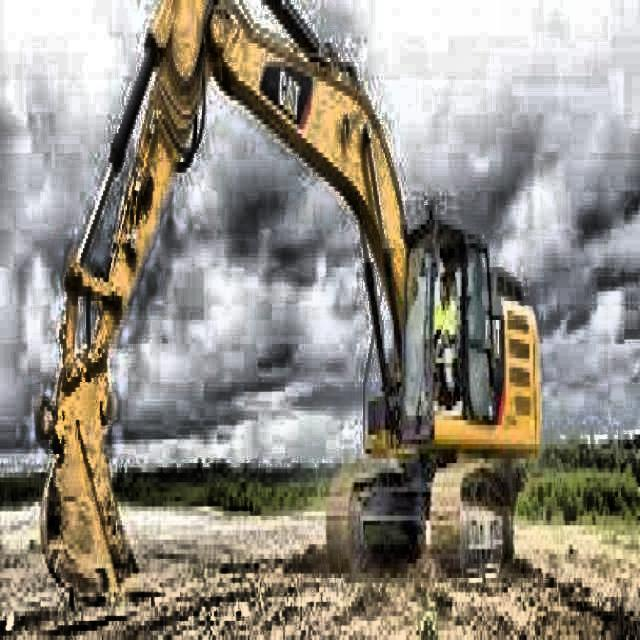bull_dozer/loader/grader: (36, 0, 544, 610)
person: (430, 272, 458, 388)
